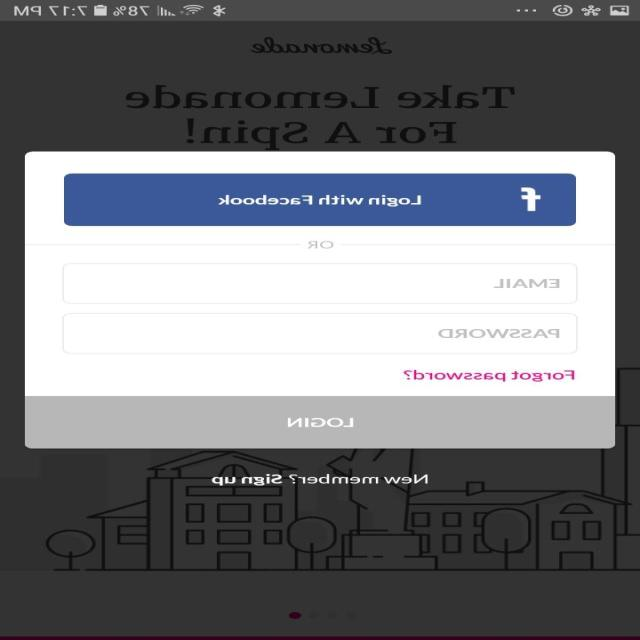EditText: (62, 312, 578, 354), (63, 262, 579, 304)
Icon: (520, 187, 542, 211)
Modal: (25, 152, 615, 448)
Text: (126, 84, 516, 150), (212, 473, 428, 485), (250, 37, 393, 55), (404, 369, 576, 382), (438, 328, 561, 338), (492, 278, 560, 288), (308, 240, 334, 248)
TextButton: (26, 396, 616, 448), (64, 173, 577, 226)
